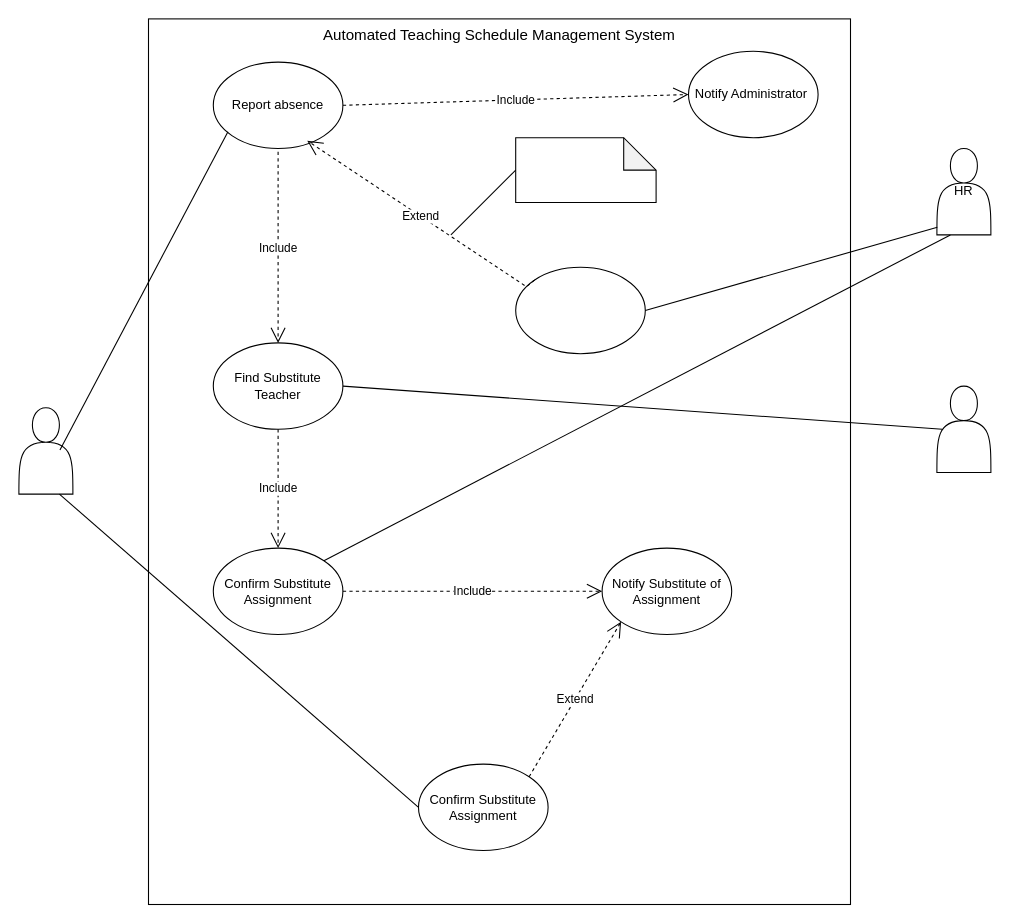
This 1010x923 diagram has some shape labels left out. The centre of each missing label's shape, as x and y in pixels:
admin decision: the point at 580,310
AI: the point at 963,429
Condition: report Absence < 5 Hours: the point at 585,169
Teacher: the point at 45,450
